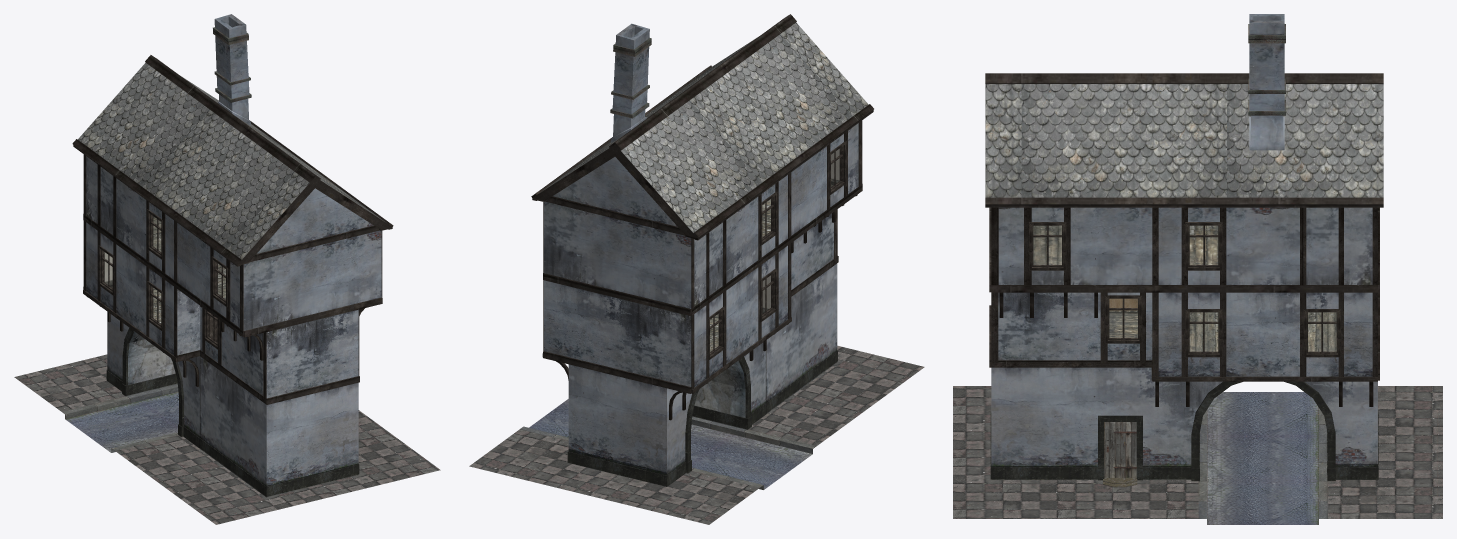
The model's file is GHouse_fbx.fbx.
3 views of the same model, side by side, from view 1: azimuth 30°, elevation 25°; view 2: azimuth 150°, elevation 25°; view 3: azimuth 270°, elevation 25° (orthographic). The views are drawn at different scales.
Parts seen in each view (by area): view 1: Roof, BuildingD3, BuildingD1, Ground, BuildingD2, Flue, Windows_D2, Windows_D3; view 2: Roof, BuildingD3, BuildingD1, Ground, BuildingD2, Flue, Windows_D2, Windows_D3; view 3: Roof, Ground, BuildingD3, BuildingD1, BuildingD2, Flue, Windows_D2, Windows_D3, Entrance, Stair_1.
Boxes of the visible parts, x1,y1,x2,y2 form: Roof: [72, 55, 393, 266]; BuildingD3: [83, 154, 382, 337]; BuildingD1: [83, 287, 359, 497]; Ground: [14, 354, 440, 524]; BuildingD2: [83, 221, 364, 400]; Flue: [213, 14, 251, 125]; Windows_D2: [98, 245, 219, 349]; Windows_D3: [147, 209, 227, 307]; Roof: [531, 14, 873, 240]; BuildingD3: [543, 120, 862, 315]; BuildingD1: [542, 256, 838, 486]; Ground: [469, 345, 924, 524]; BuildingD2: [543, 194, 857, 389]; Flue: [610, 23, 651, 142]; Windows_D2: [708, 268, 777, 360]; Windows_D3: [760, 141, 846, 245]; Roof: [985, 73, 1383, 207]; Ground: [953, 386, 1442, 524]; BuildingD3: [989, 207, 1379, 292]; BuildingD1: [989, 292, 1379, 487]; BuildingD2: [991, 292, 1377, 376]; Flue: [1248, 14, 1285, 150]; Windows_D2: [1105, 295, 1340, 357]; Windows_D3: [1029, 222, 1222, 270]; Entrance: [1104, 422, 1136, 477]; Stair_1: [1109, 312, 1137, 337].
Size of the model in its own units: 977 by 1572 by 1520.
